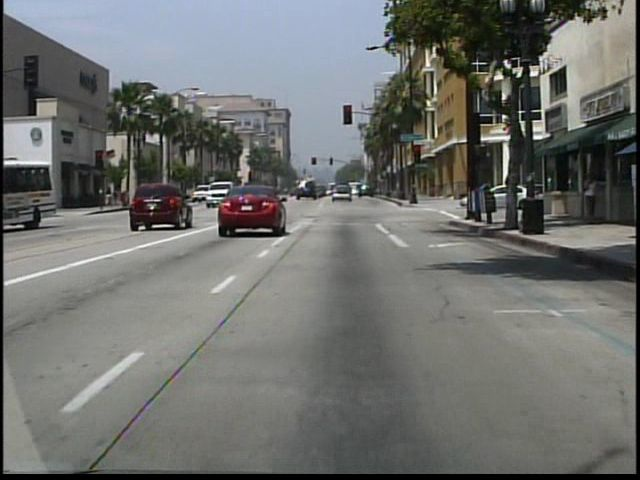person: (579, 168, 602, 226)
